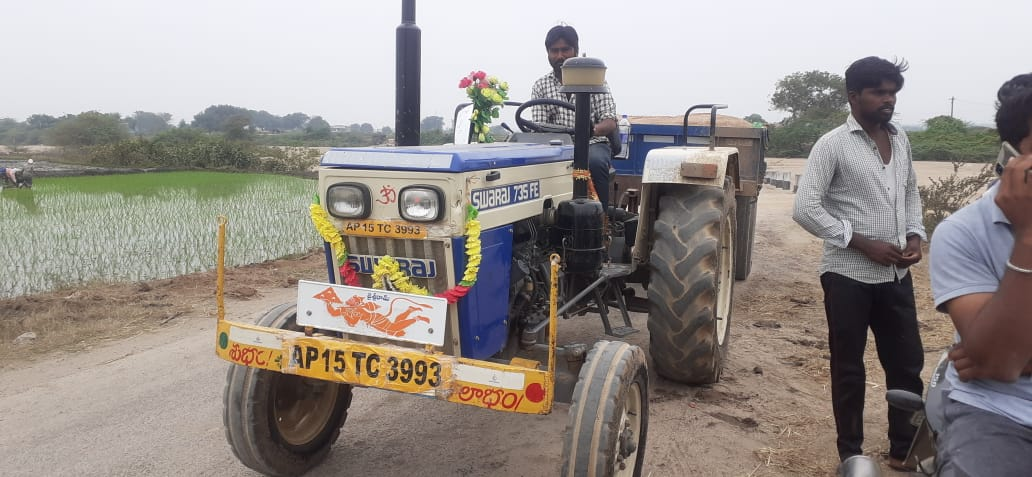license_plate: (290, 338, 448, 393)
